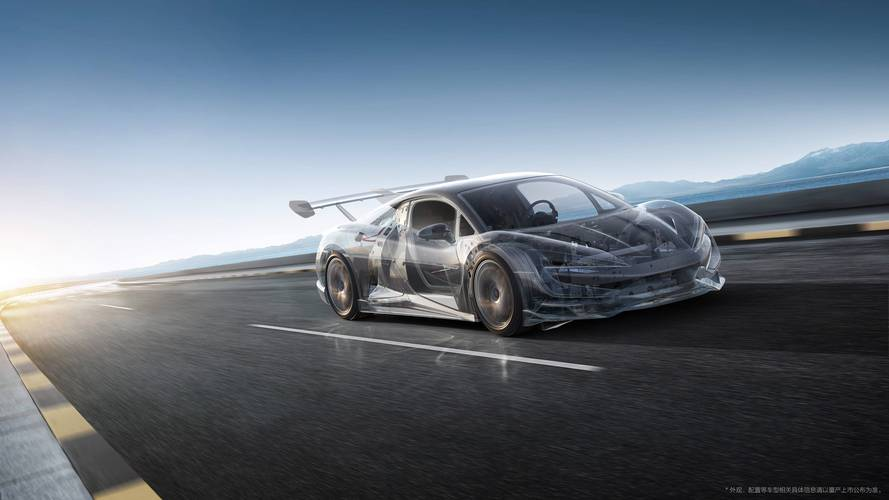汽车: (284, 171, 731, 334)
